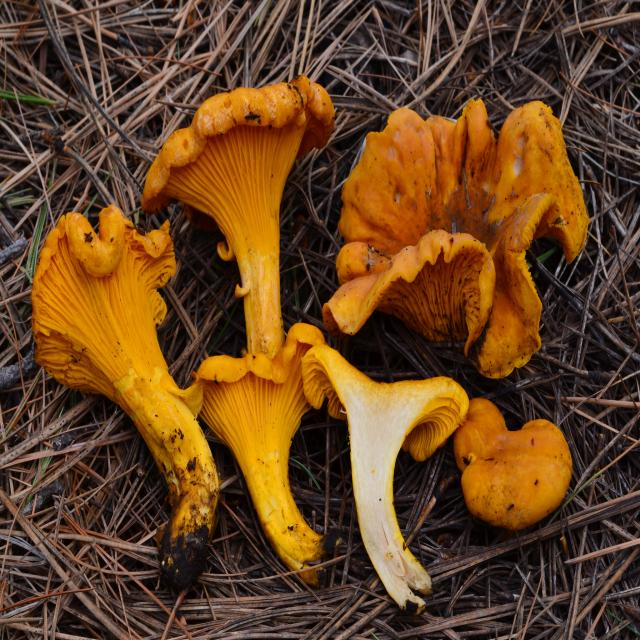chanterelle: (322, 100, 590, 382), (30, 208, 221, 593), (141, 75, 336, 362), (301, 345, 470, 616), (195, 324, 325, 571), (449, 401, 575, 534)
